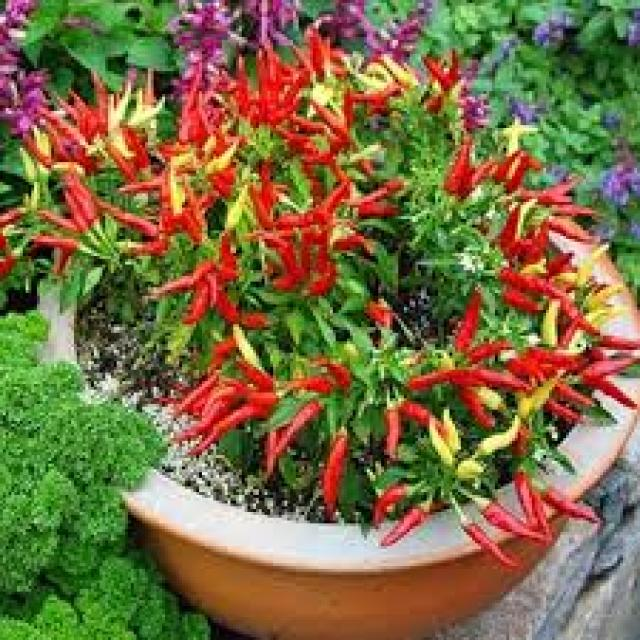Mosaic_virus: (189, 70, 609, 516), (0, 90, 175, 295)
